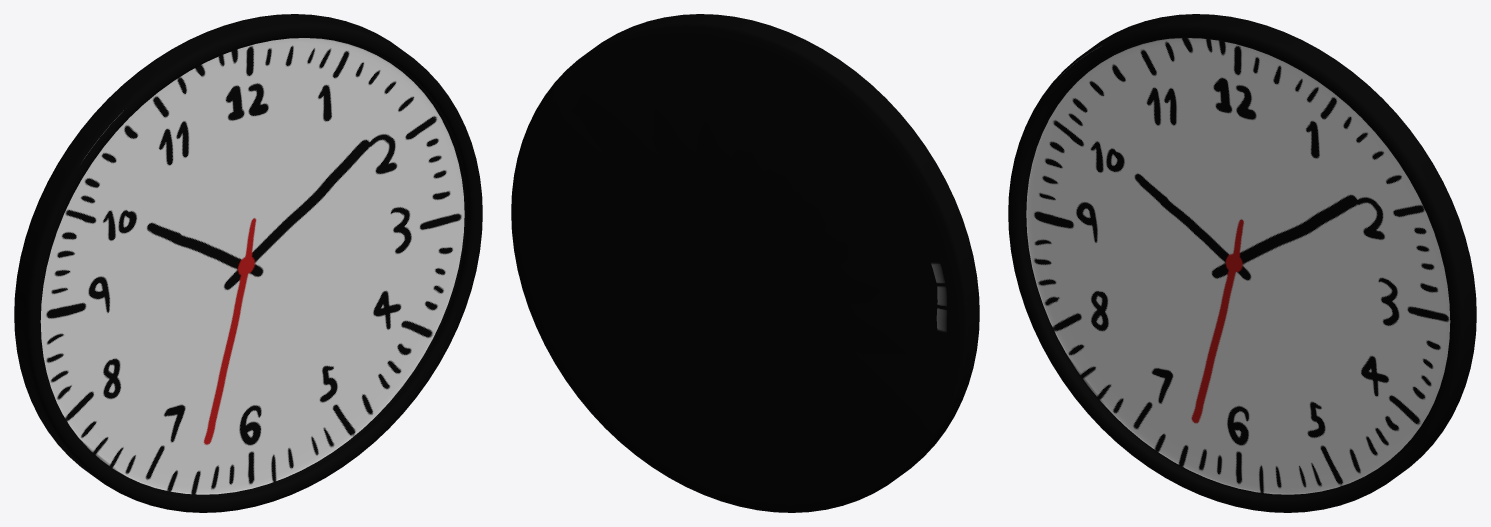
The model's file is Clock.fbx.
3 renders of one model, left to right at view 1: azimuth 30°, elevation 25°; view 2: azimuth 150°, elevation 25°; view 3: azimuth 330°, elevation 25°, orthographic.
Visible parts, largest first — view 1: Clock; view 2: Clock; view 3: Clock.
Boxes of the visible parts, x1=… form: Clock: x1=14, y1=14, x2=482, y2=512; Clock: x1=511, y1=14, x2=979, y2=512; Clock: x1=1008, y1=14, x2=1476, y2=512.
Size of the model in its own units: 0.3308 by 0.3308 by 0.0225.
1 material, 1 textured.
